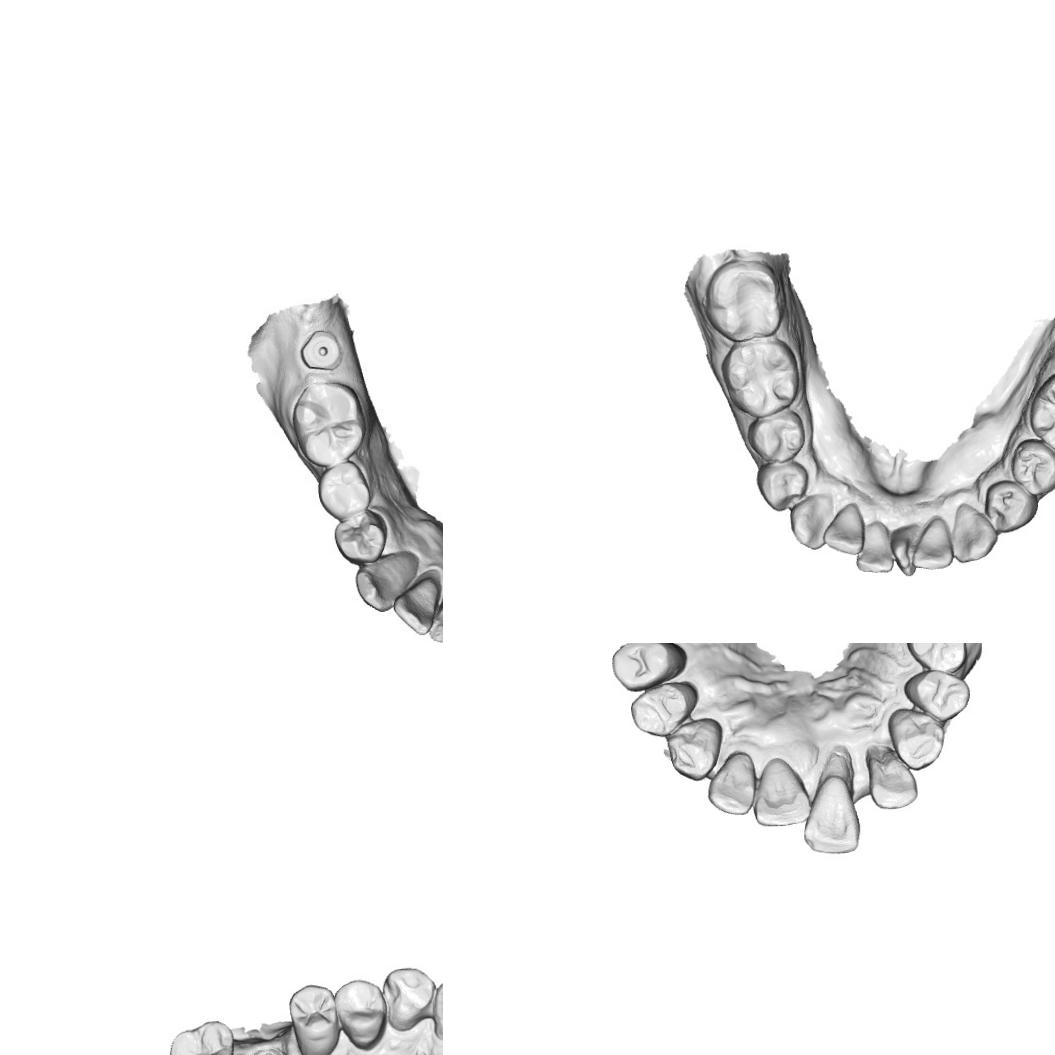canine: (354, 550, 420, 613), (886, 704, 948, 770), (379, 965, 438, 1033), (664, 716, 724, 782), (950, 502, 1000, 564), (788, 492, 836, 550)
implant: (300, 327, 341, 371)
implant_minus: (248, 1044, 285, 1055)
incisor: (800, 747, 862, 854), (752, 755, 811, 827), (864, 740, 921, 811), (706, 750, 756, 816), (392, 577, 440, 636), (820, 501, 865, 557), (910, 514, 953, 570), (854, 518, 894, 574), (888, 523, 922, 578), (429, 980, 443, 1044), (427, 590, 443, 643)
molar: (701, 258, 786, 343), (720, 334, 802, 420), (291, 380, 367, 466), (165, 1018, 236, 1055), (1027, 367, 1055, 455)
premolar: (332, 975, 388, 1052), (286, 980, 343, 1055), (630, 679, 700, 738), (609, 643, 688, 692), (745, 406, 806, 466), (905, 668, 972, 720), (316, 460, 371, 522), (332, 509, 388, 565), (983, 478, 1039, 534), (1009, 438, 1055, 498), (756, 458, 808, 511), (905, 643, 966, 675)
